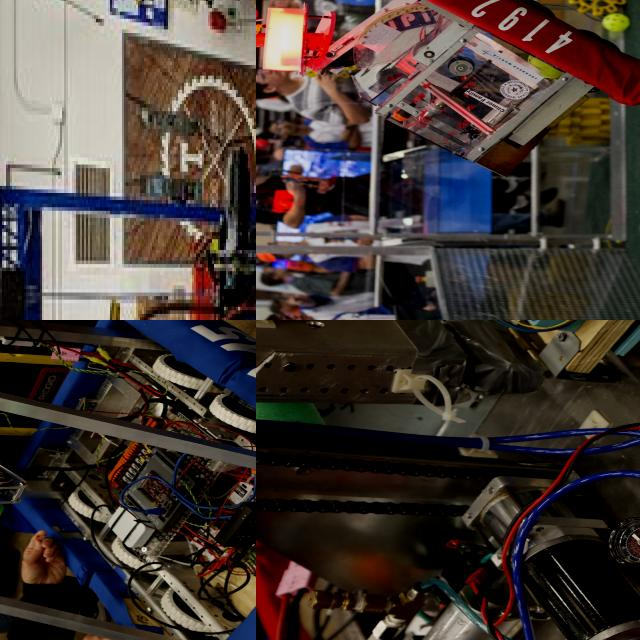FRC-Robots: (256, 320, 640, 640), (0, 0, 256, 320), (0, 320, 256, 640), (267, 0, 640, 170)
